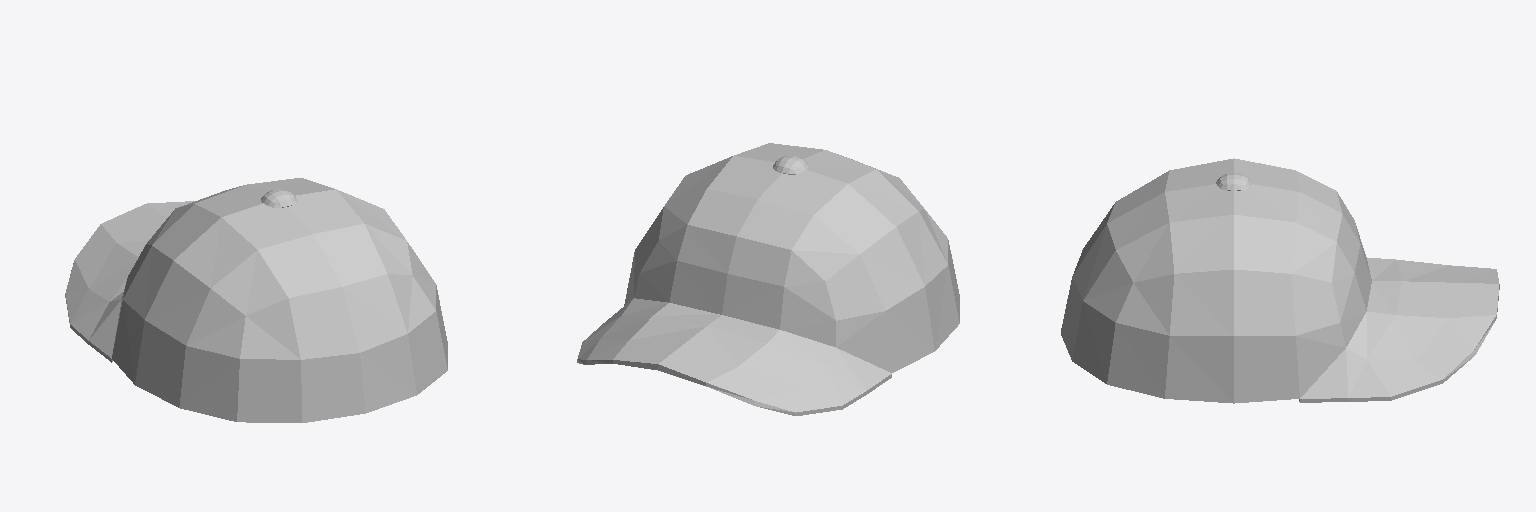
The model's file is fusionbracecap.obj.
3 renders of one model, left to right at view 1: azimuth 30°, elevation 25°; view 2: azimuth 150°, elevation 25°; view 3: azimuth 270°, elevation 25°, orthographic.
Parts seen in each view (by area): view 1: Fusionbrace1; view 2: Fusionbrace1; view 3: Fusionbrace1.
Boxes of the visible parts, box(x1,y1,x2,y2) form: Fusionbrace1: box(65, 178, 447, 422); Fusionbrace1: box(577, 143, 959, 415); Fusionbrace1: box(1061, 158, 1499, 403).
Bounding box in the file's own units: 1.3 × 0.7006 × 1.72.